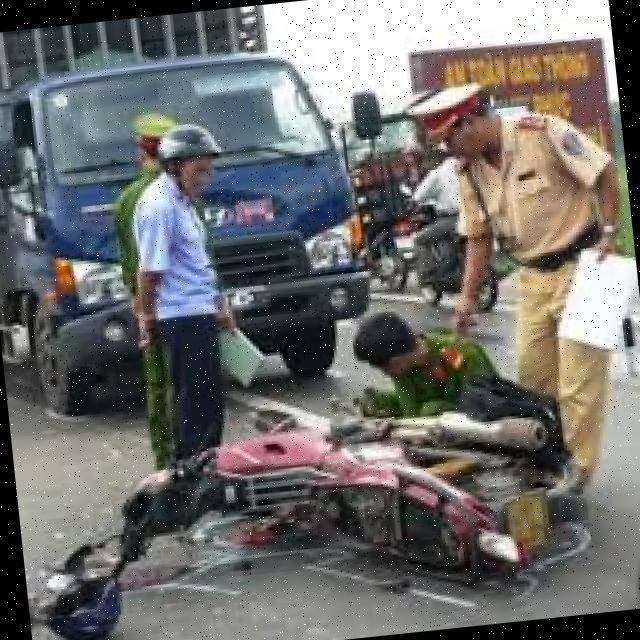accident: (44, 320, 601, 640)
